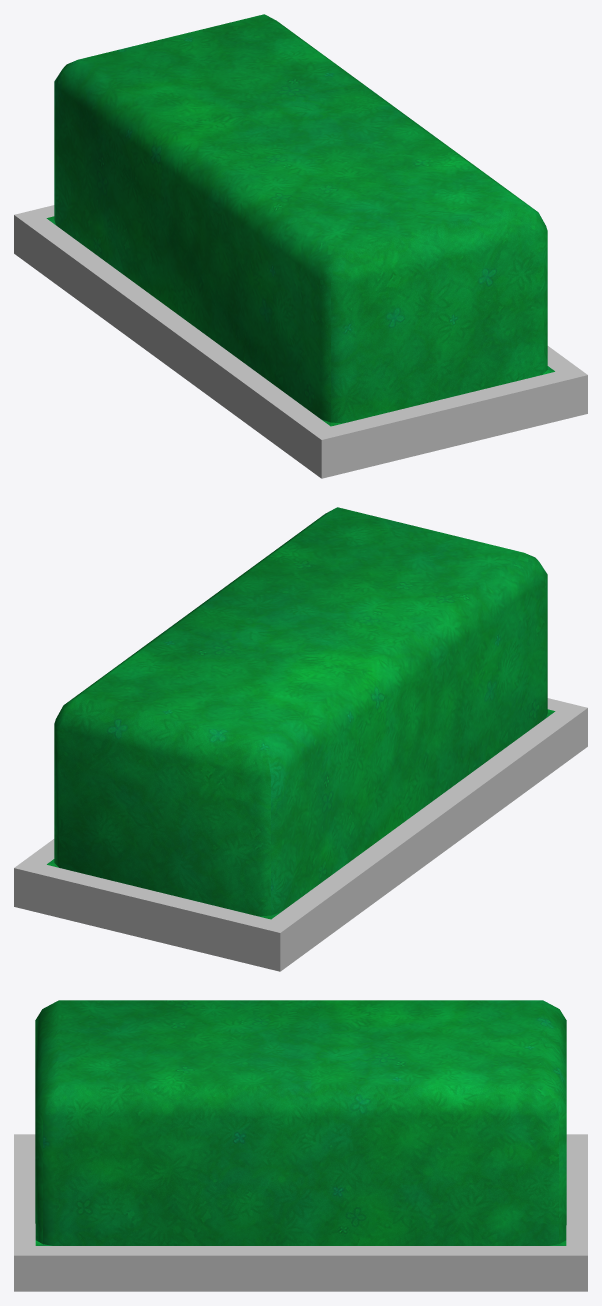
File: Plant01_c05.FBX
3 views of the same model, one above another, from view 1: azimuth 30°, elevation 25°; view 2: azimuth 150°, elevation 25°; view 3: azimuth 270°, elevation 25° (orthographic). The views are drawn at different scales.
Parts seen in each view (by area): view 1: Plant01_c05; view 2: Plant01_c05; view 3: Plant01_c05.
Part boxes in pixels (left/top/right/bottom): Plant01_c05: left=14, top=14, right=587, bottom=478; Plant01_c05: left=14, top=507, right=587, bottom=971; Plant01_c05: left=14, top=1000, right=587, bottom=1291.
Size of the model in its own units: 339 by 245 by 678.
